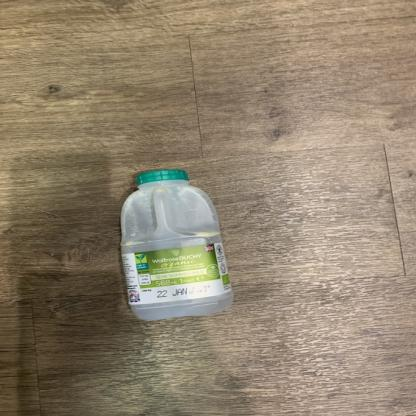trash: (110, 169, 236, 325)
